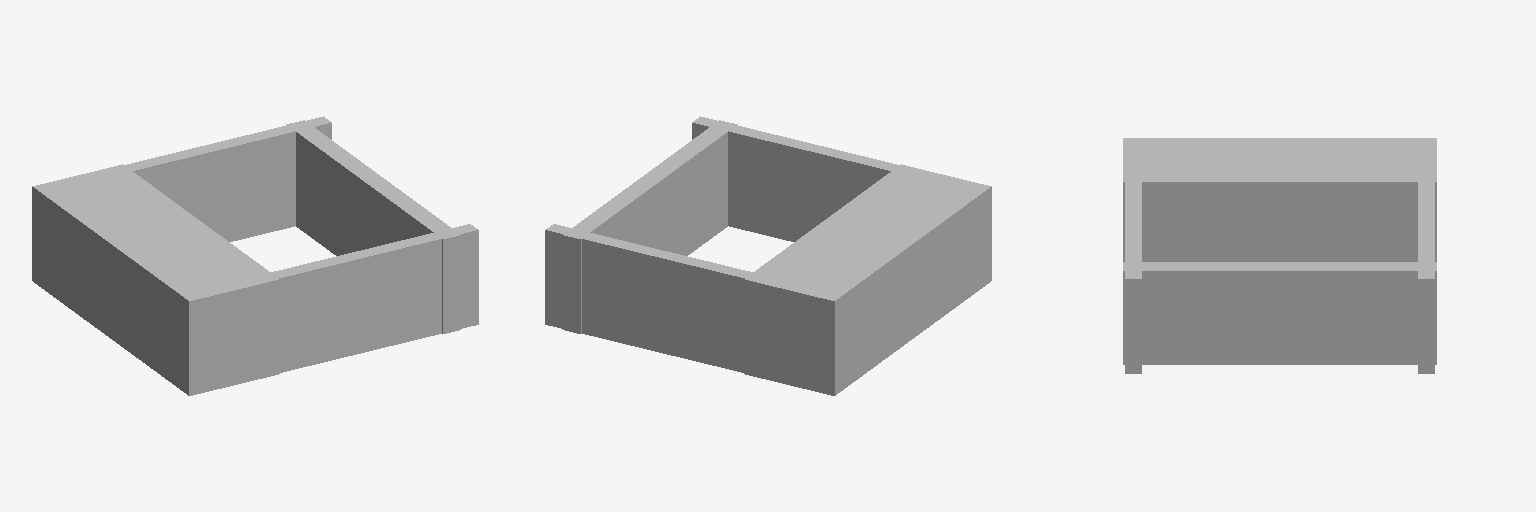
The model's file is vendor_base.obj.
3 renders of one model, left to right at view 1: azimuth 30°, elevation 25°; view 2: azimuth 150°, elevation 25°; view 3: azimuth 270°, elevation 25°, orthographic.
Bounding box in the file's own units: 16 × 5 × 15.